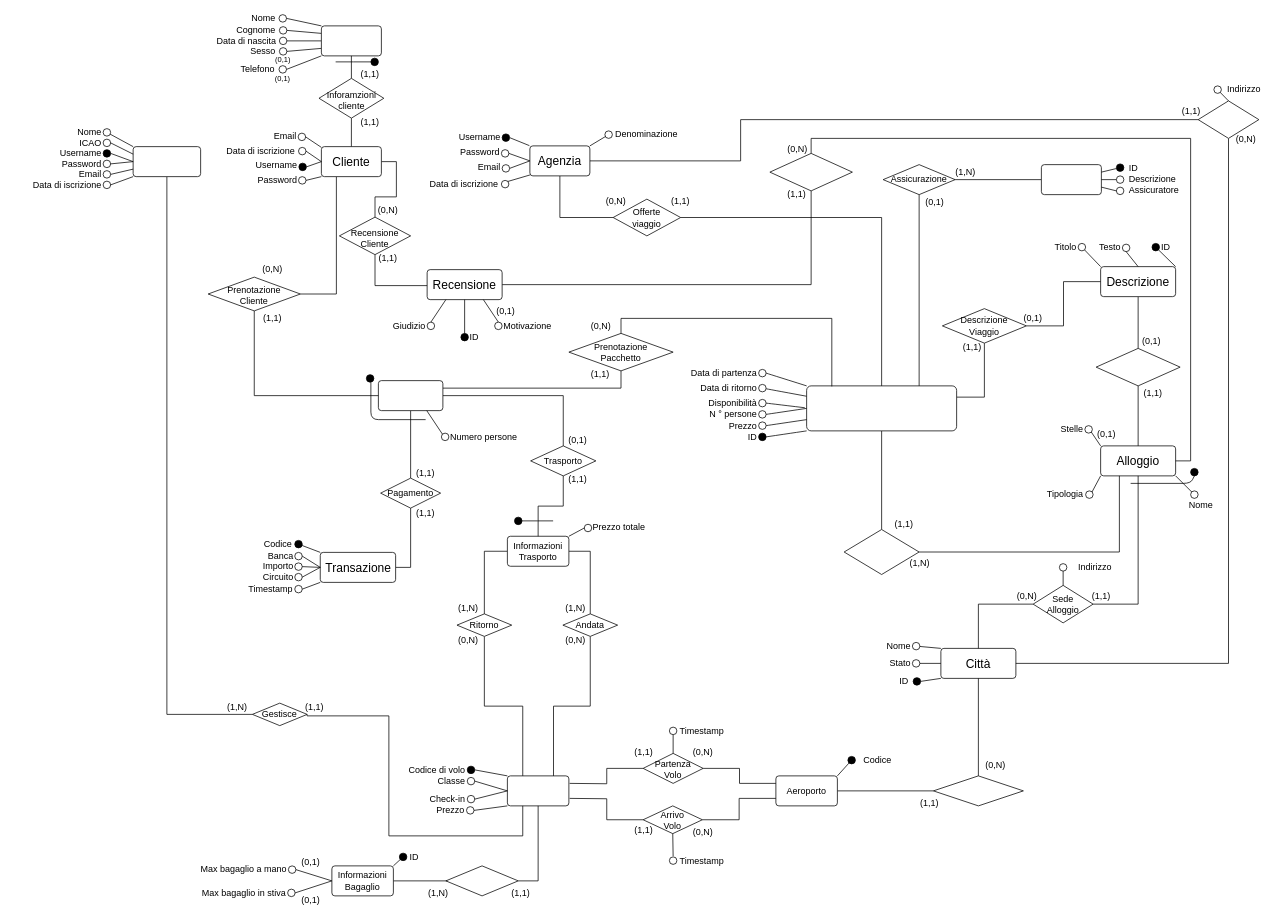
This 1283x924 diagram has some shape labels left out. Each missing label, with the centre of its shape:
Aeroporto Città: (978,790)
Compagnia: (166,161)
Dati Cliente: (351,40)
Descrizione Alloggio: (1137,367)
Dettagli volo: (481,880)
Pacchetto Viaggio: (881,408)
Polizza: (1071,179)
Prenotazione: (410,395)
Recensione Alloggio: (810,172)
Sede Agenzia: (1228,119)
Soggiorno: (881,551)
Volo: (538,790)
